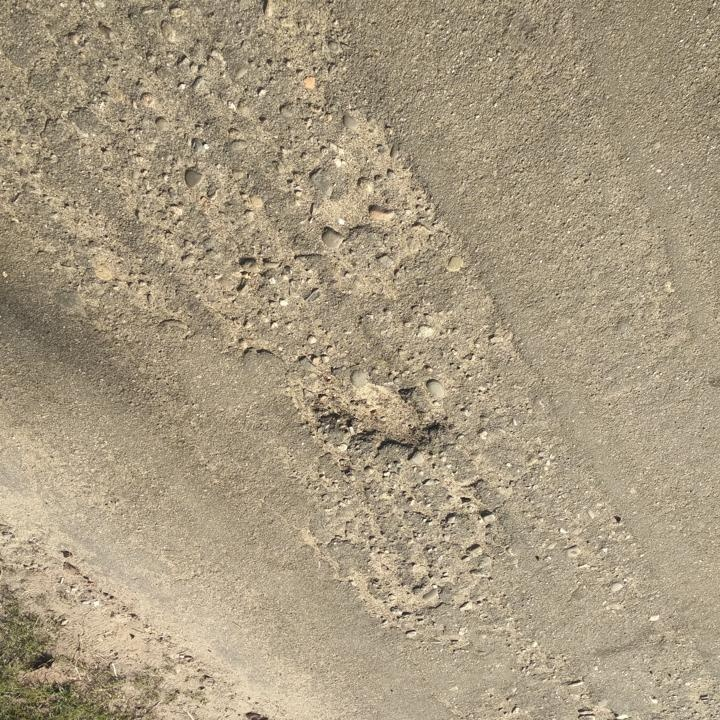pothole: (318, 378, 443, 455)
